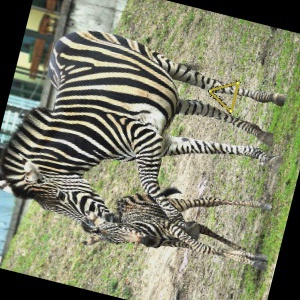triangle: (207, 80, 243, 117)
